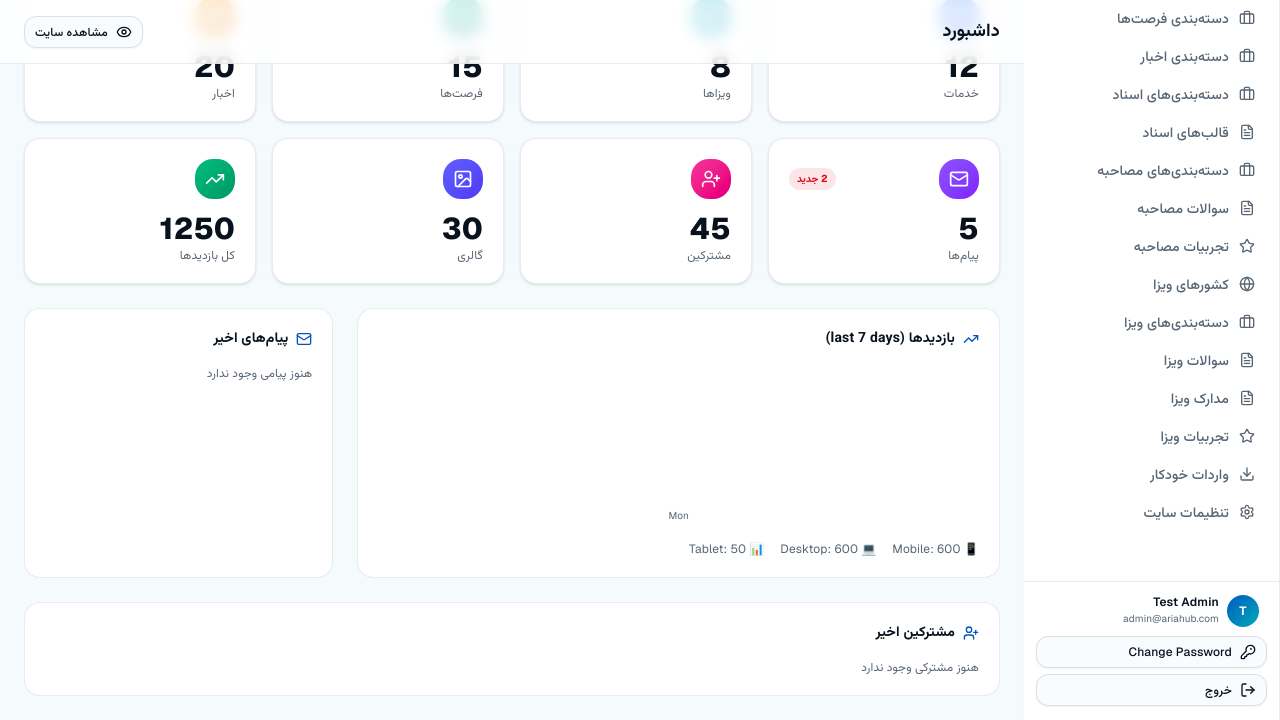
Settings Panel Unit Tests › Section Headers - Requirement 7.3 › renders Layout & Behavior section header with Persian translation
The width and height of the screenshot is (1280, 720).
(page scrolled)
Expected: the text "تنظیمات سایت" is shown, x1=1144 y1=502 x2=1229 y2=522
Click the button "تنظیمات سایت" at (1152, 512), box x1=1036 y1=494 x2=1267 y2=530
(page scrolled)
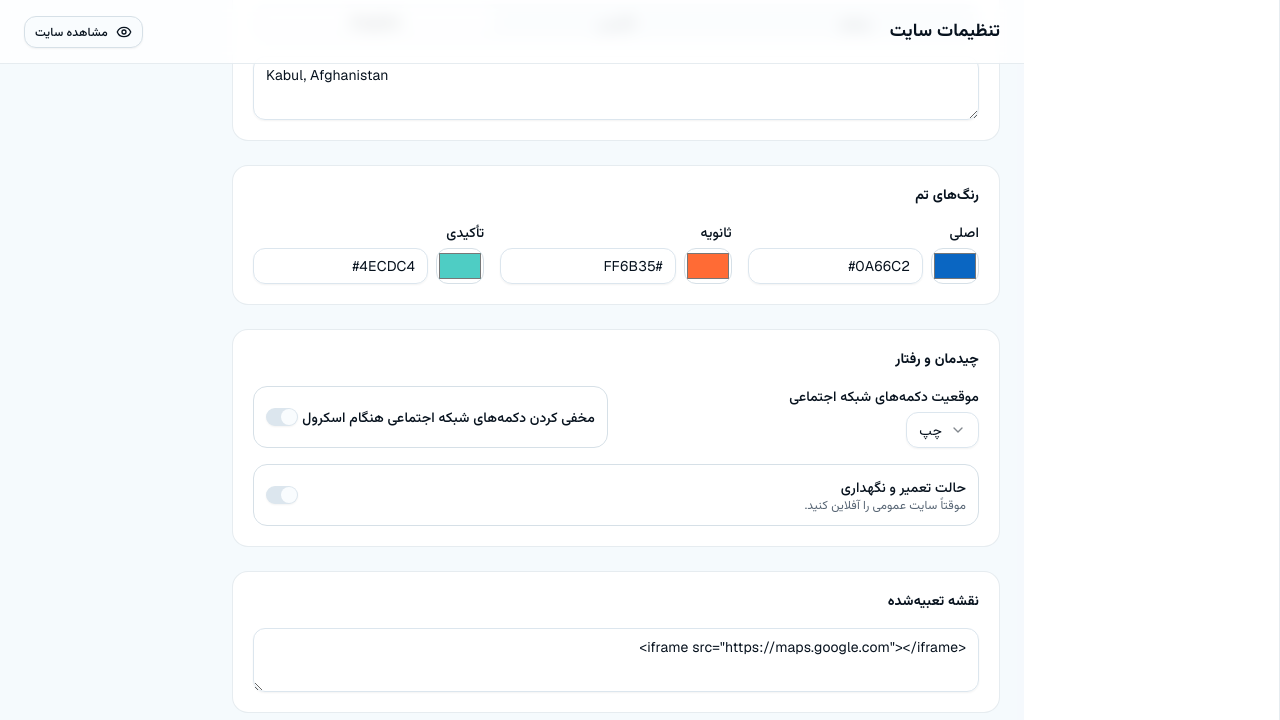
Expected: the heading "چیدمان و رفتار" is shown, x1=895 y1=349 x2=979 y2=371
